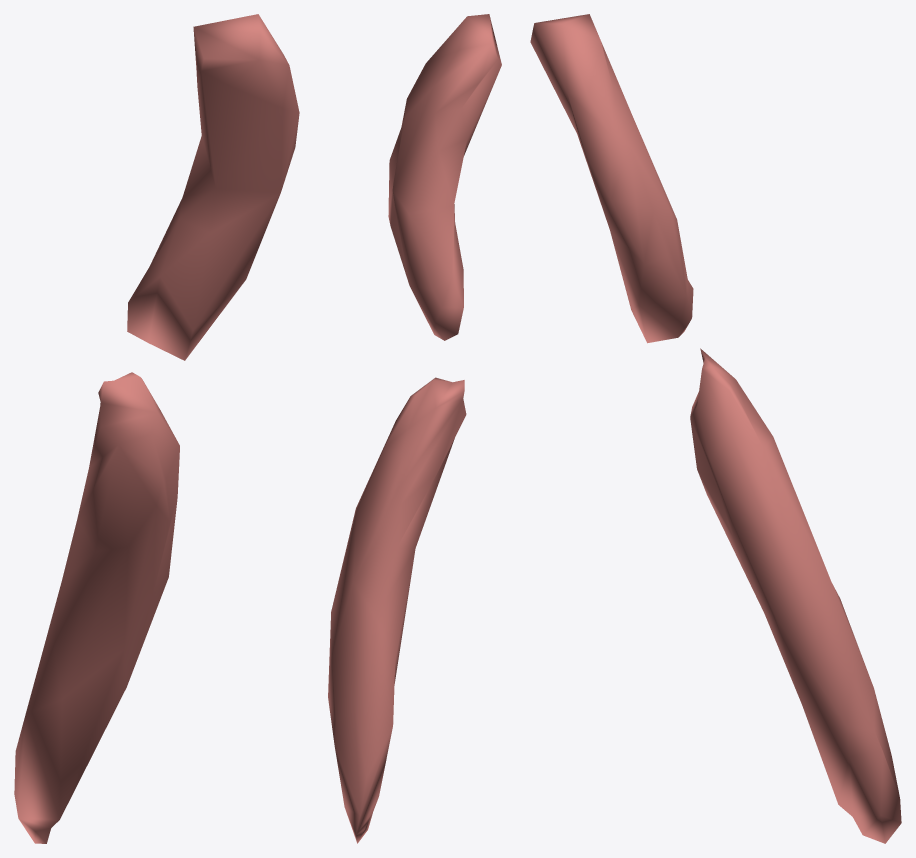
The picture shows the model from 3 angles, left to right: view 1: azimuth 30°, elevation 25°; view 2: azimuth 150°, elevation 25°; view 3: azimuth 270°, elevation 25°; orthographic projection. The views are drawn at different scales.
Visible parts, largest first — view 1: ZA_bd5983f5c8fca4a3; view 2: ZA_bd5983f5c8fca4a3; view 3: ZA_bd5983f5c8fca4a3.
Part boxes in pixels (x1,y1,x2,y2): ZA_bd5983f5c8fca4a3: (14, 14, 299, 843); ZA_bd5983f5c8fca4a3: (328, 14, 501, 843); ZA_bd5983f5c8fca4a3: (530, 14, 901, 843).
Size of the model in its own units: 0.00703 by 0.0449 by 0.018.
